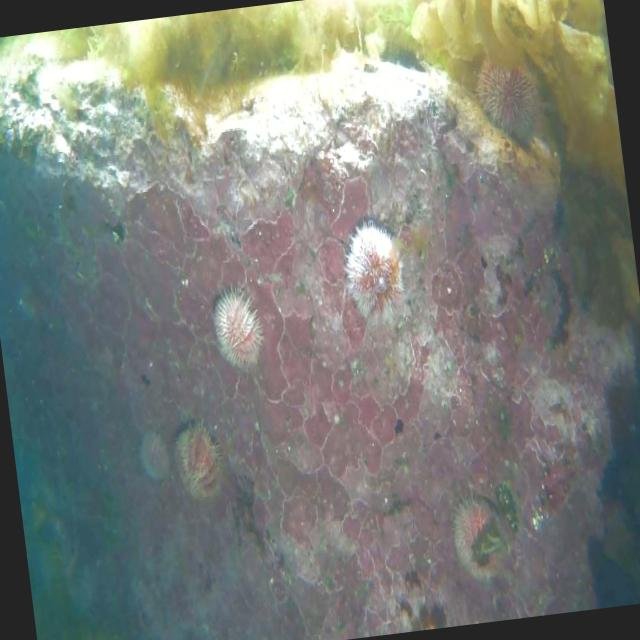Deniz Kestanesi: (336, 213, 409, 328), (471, 47, 548, 152), (446, 484, 506, 582), (208, 276, 268, 373), (170, 413, 230, 502), (137, 430, 169, 481)
